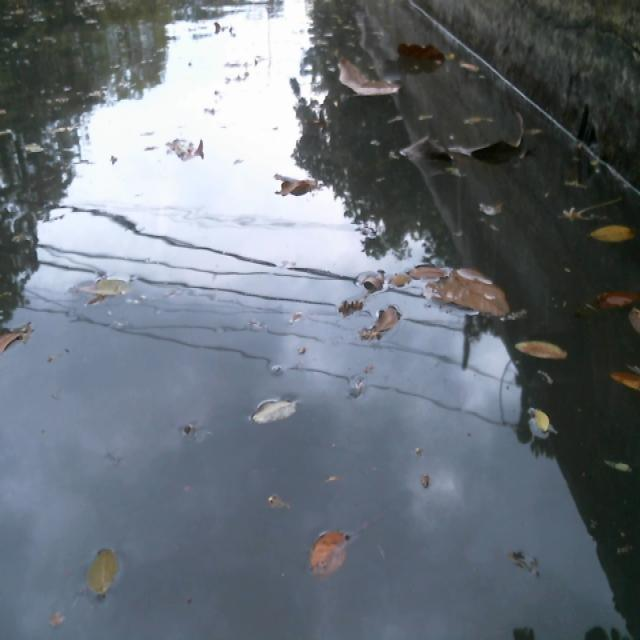Big-leaf: (440, 258, 518, 324)
Small-leaf: (463, 110, 543, 173), (338, 50, 401, 106), (80, 537, 126, 605), (395, 130, 458, 177), (300, 529, 355, 577), (516, 329, 570, 376), (252, 385, 302, 433), (562, 191, 633, 224), (396, 36, 452, 73), (82, 267, 131, 308), (592, 272, 640, 313), (275, 163, 321, 203), (607, 354, 640, 408), (0, 317, 42, 357), (528, 401, 566, 445), (588, 218, 640, 247), (603, 452, 638, 493), (403, 259, 454, 285), (166, 135, 208, 166), (370, 304, 404, 339), (335, 290, 367, 319), (361, 270, 388, 299), (208, 21, 238, 45)
